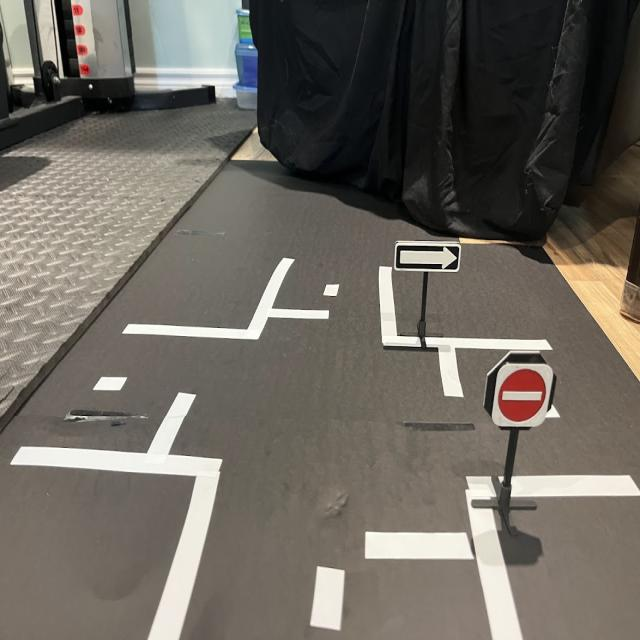sign_noentry: (492, 365, 552, 429)
sign_oneway_right: (395, 240, 462, 276)
